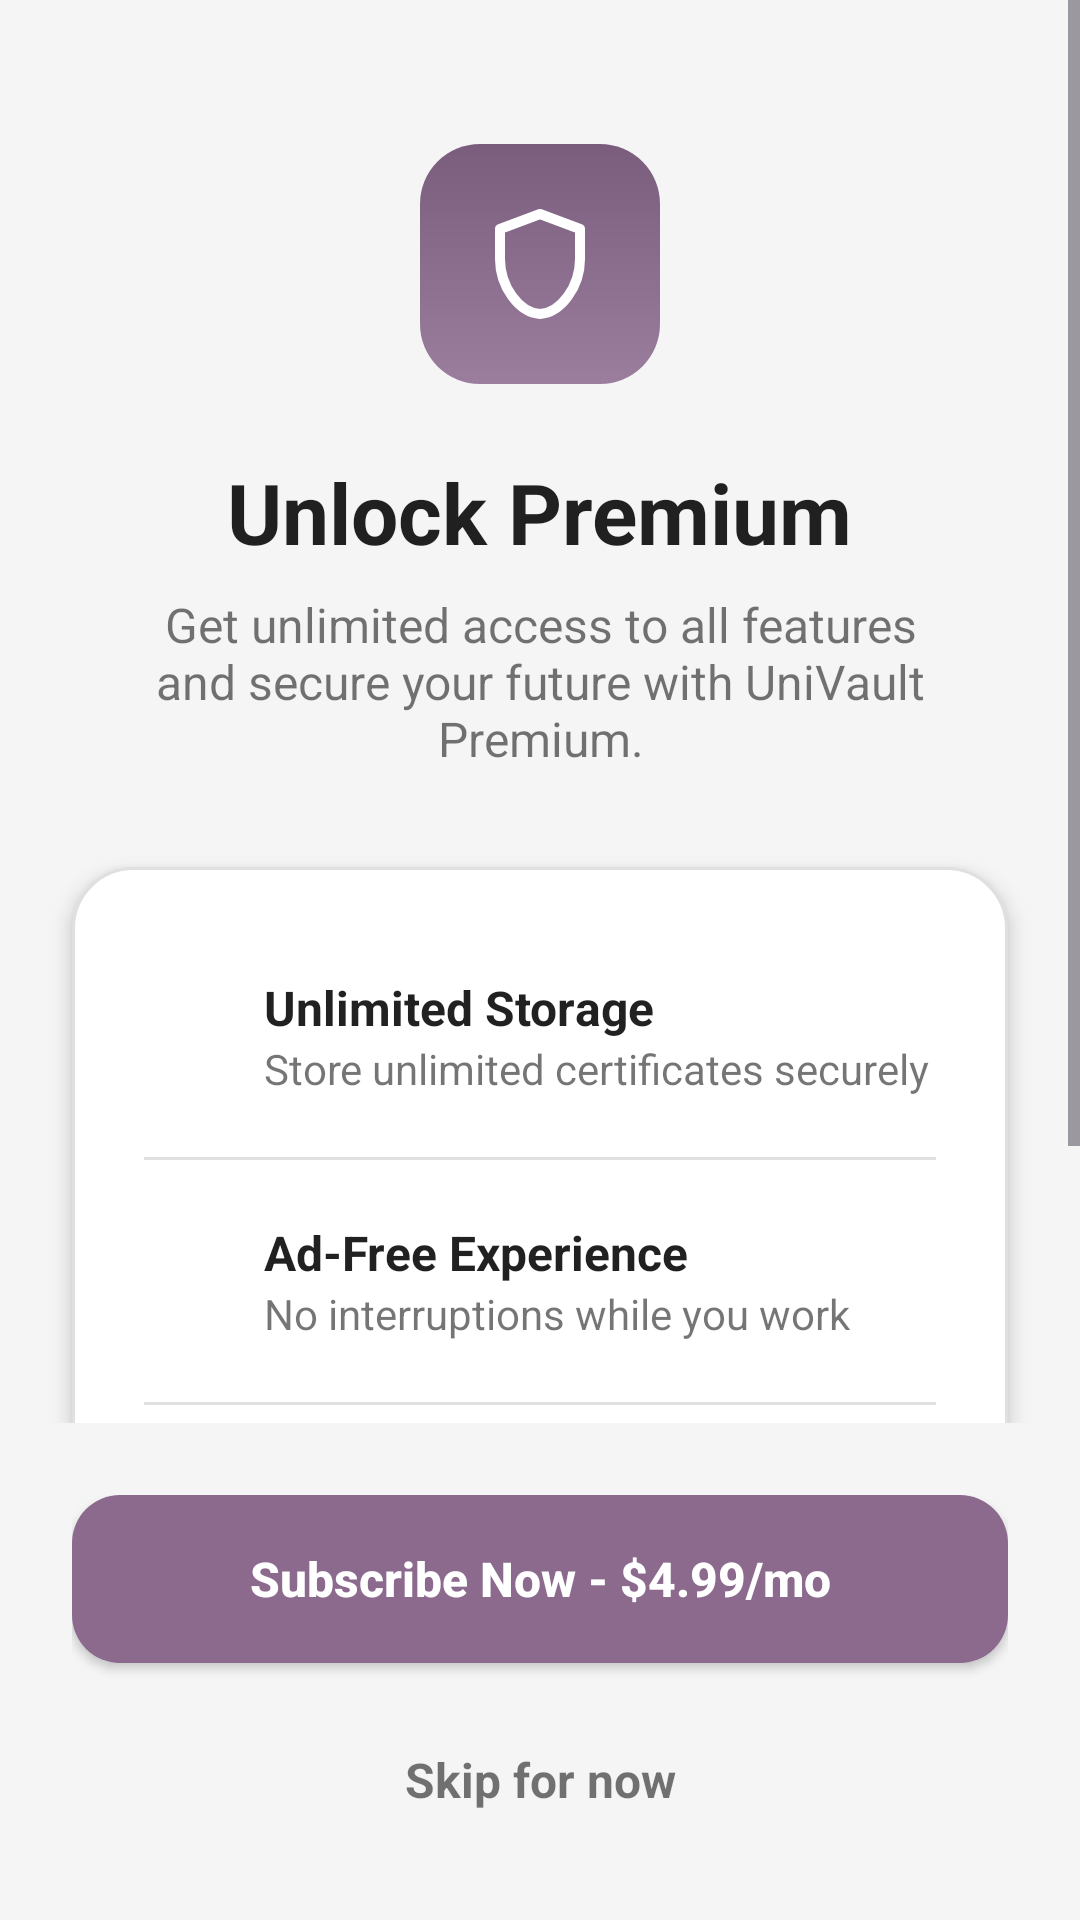

Icons on this 1080 x 1920 Android screen, each with its box as bbox=[x1, y1, x2, y2]:
shield: bbox=[420, 144, 660, 384]
